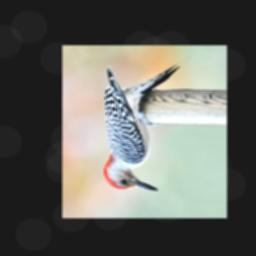Woodpecker: (96, 55, 186, 196)
